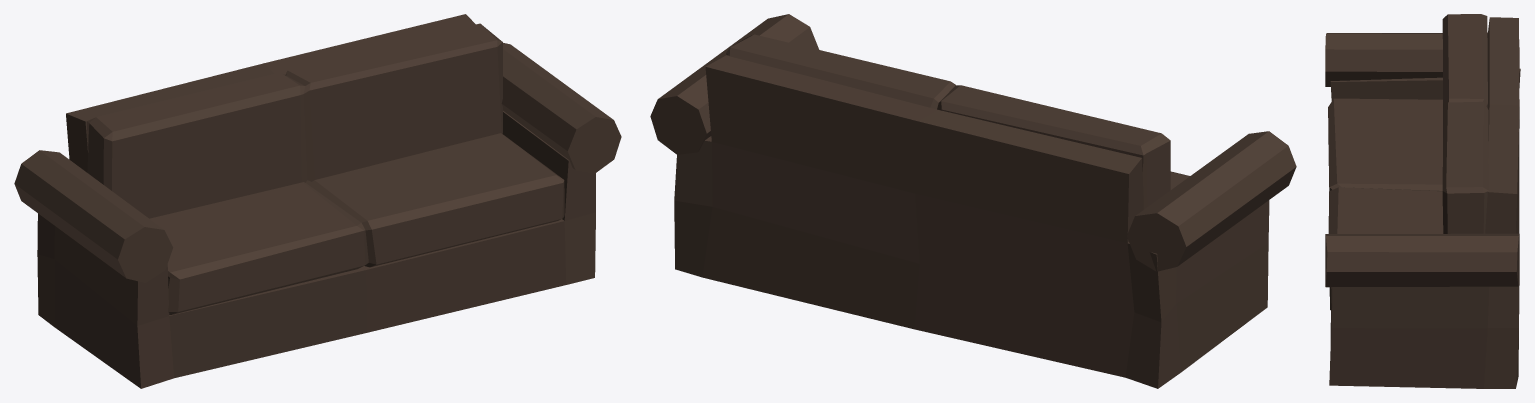
File: couch.fbx
3 renders of one model, left to right at view 1: azimuth 30°, elevation 25°; view 2: azimuth 150°, elevation 25°; view 3: azimuth 270°, elevation 25°, orthographic. The views are drawn at different scales.
Parts seen in each view (by area): view 1: Cube; view 2: Cube; view 3: Cube.
Boxes of the visible parts, x1,y1,x2,y2 form: Cube: [14, 14, 621, 388]; Cube: [650, 14, 1296, 388]; Cube: [1325, 14, 1520, 388].
Bounding box in the file's own units: 311 × 121 × 114.
